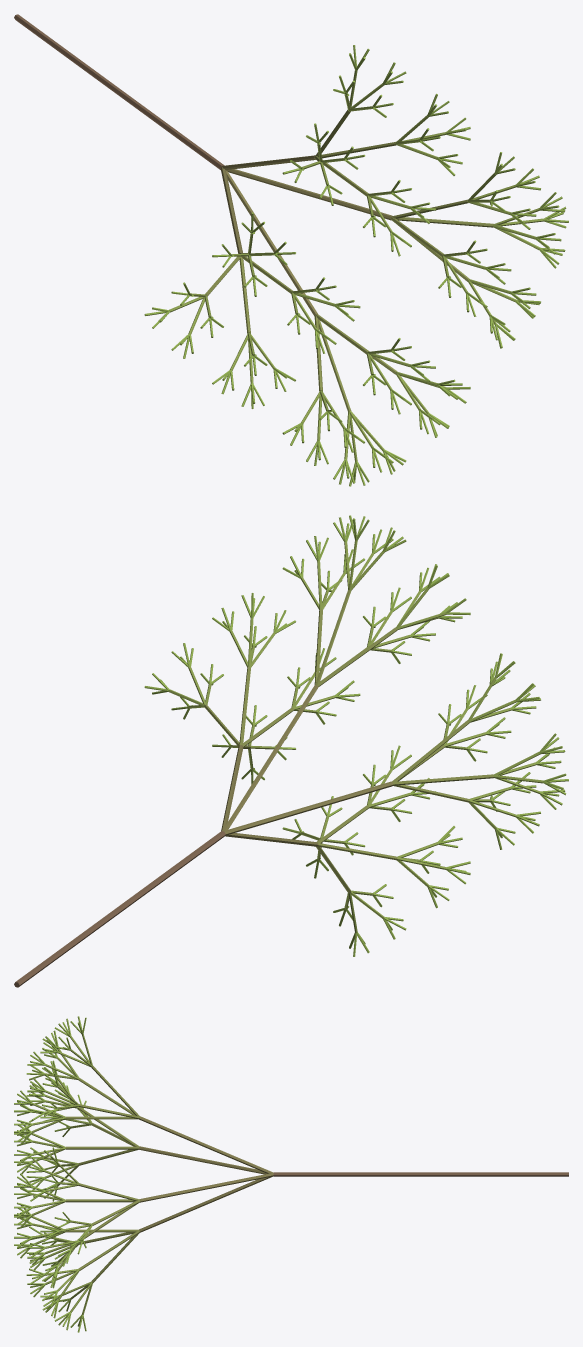
File: bush-3d.glb
3 renders of one model, top to bottom at view 1: azimuth 30°, elevation 25°; view 2: azimuth 150°, elevation 25°; view 3: azimuth 270°, elevation 25°, orthographic. The views are drawn at different scales.
Visible parts, largest first — view 1: world; view 2: world; view 3: world.
Part boxes in pixels (x1,y1,x2,y2): world: (14, 14, 568, 486); world: (14, 515, 568, 987); world: (14, 1016, 568, 1332).
Bounding box in the file's own units: 7.5 × 7.49 × 12.03.
